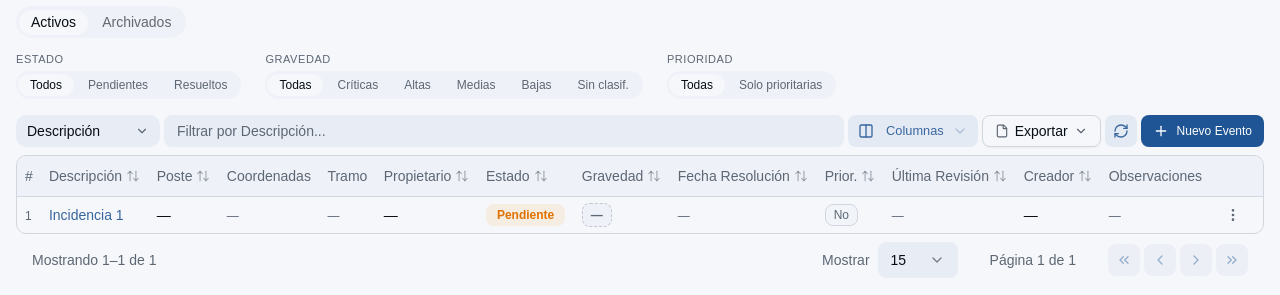
Test: tabla de eventos — la estrella de prioridad no puede mentir › deja la marca puesta cuando el servidor la acepta
Click the button titled "cambiar prioridad".
click(841, 214)  # box x1=825 y1=204 x2=858 y2=226
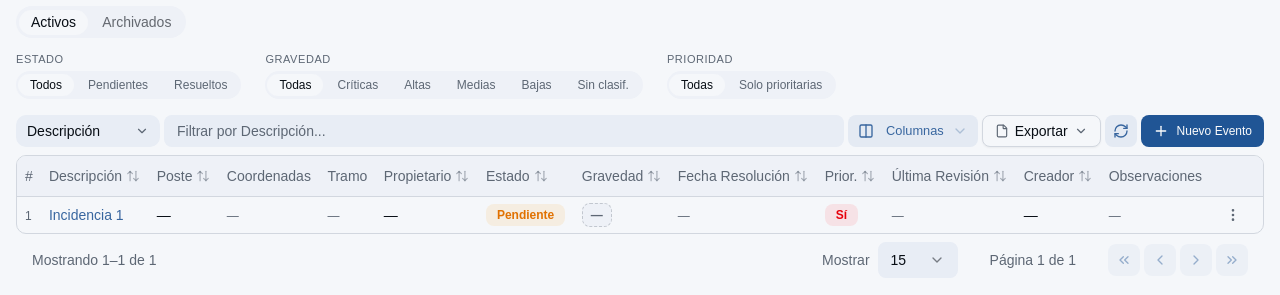
Check: the text "Sí" is shown, box x1=825 y1=204 x2=858 y2=226
